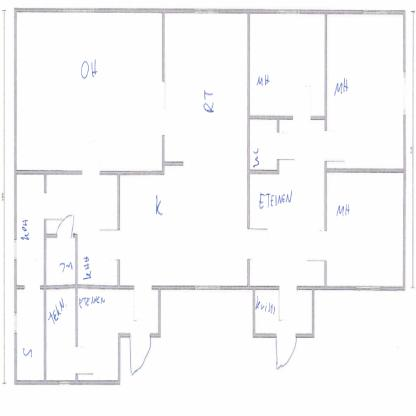door: (128, 336, 152, 372), (275, 333, 298, 369), (56, 214, 75, 238)
window: (57, 8, 95, 14), (193, 8, 220, 15), (355, 284, 380, 291), (276, 10, 300, 16), (403, 71, 406, 114), (364, 10, 388, 15), (194, 287, 221, 291), (58, 380, 70, 386), (14, 314, 17, 333), (14, 240, 17, 258)
zone: (120, 13, 247, 286), (17, 11, 162, 169), (250, 116, 324, 286), (327, 12, 403, 168), (327, 173, 402, 285), (47, 174, 118, 286), (249, 11, 324, 115), (78, 288, 158, 382), (16, 174, 44, 284), (45, 288, 76, 380), (255, 288, 312, 333), (17, 287, 44, 379), (46, 237, 75, 286), (249, 119, 276, 170)
